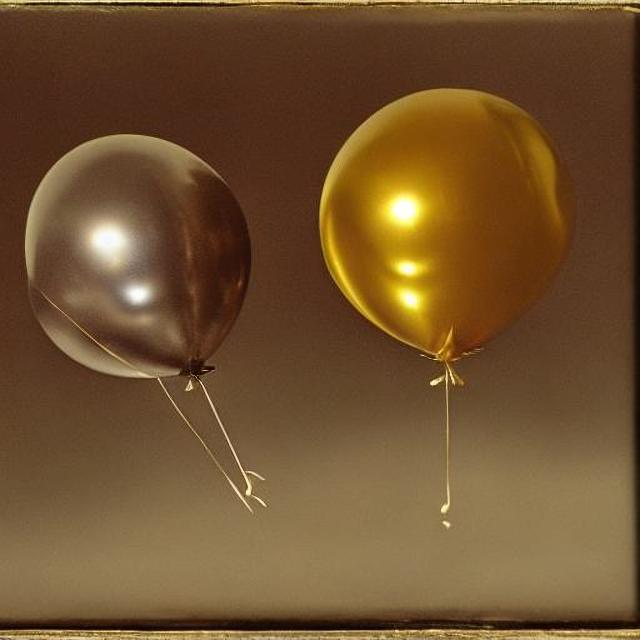balloon: (315, 78, 578, 377), (22, 125, 255, 375)
